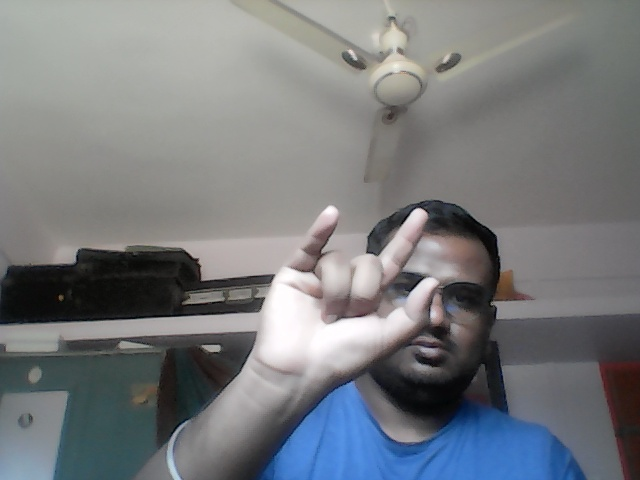I Love You: (251, 203, 442, 390)
